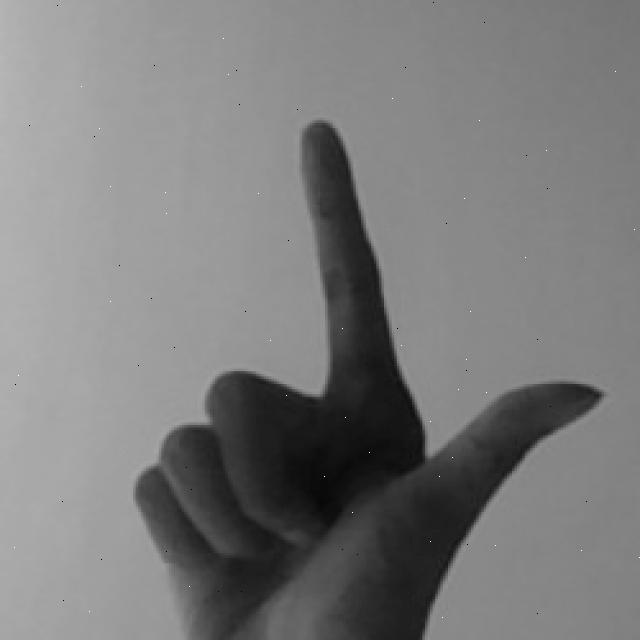L: (126, 114, 616, 640)
